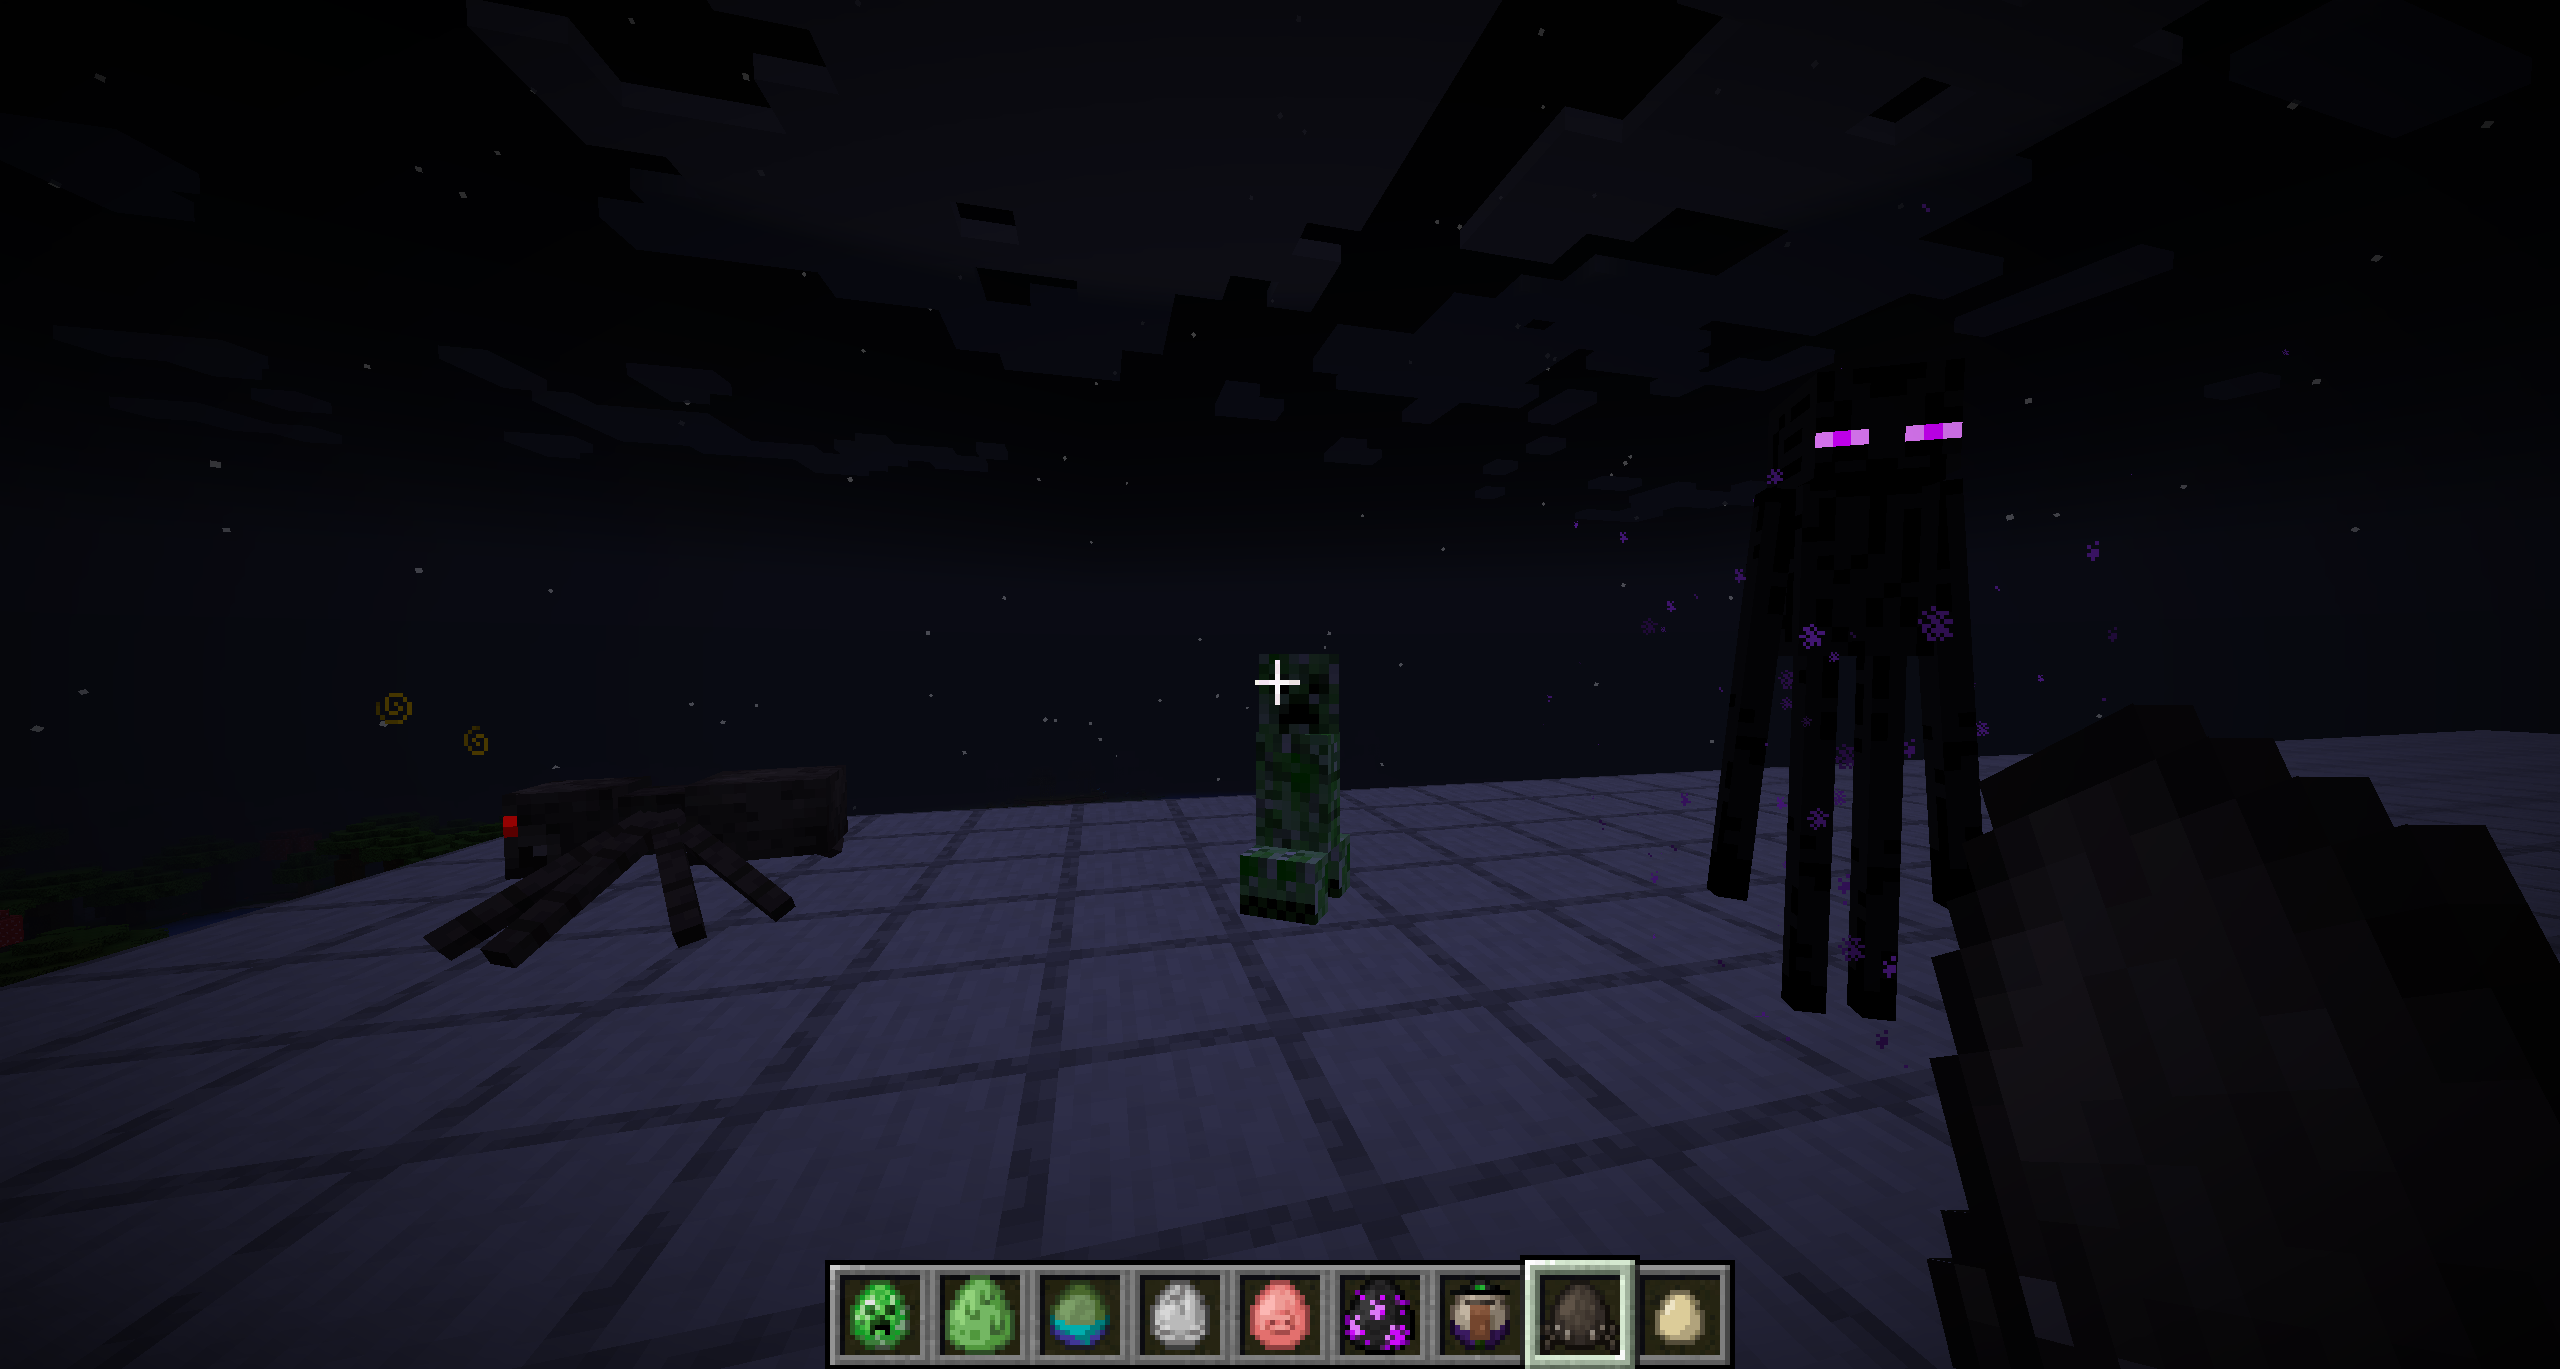araignees: (481, 775, 850, 968)
creepers: (1250, 650, 1356, 922)
endermens: (1735, 369, 1983, 1031)
